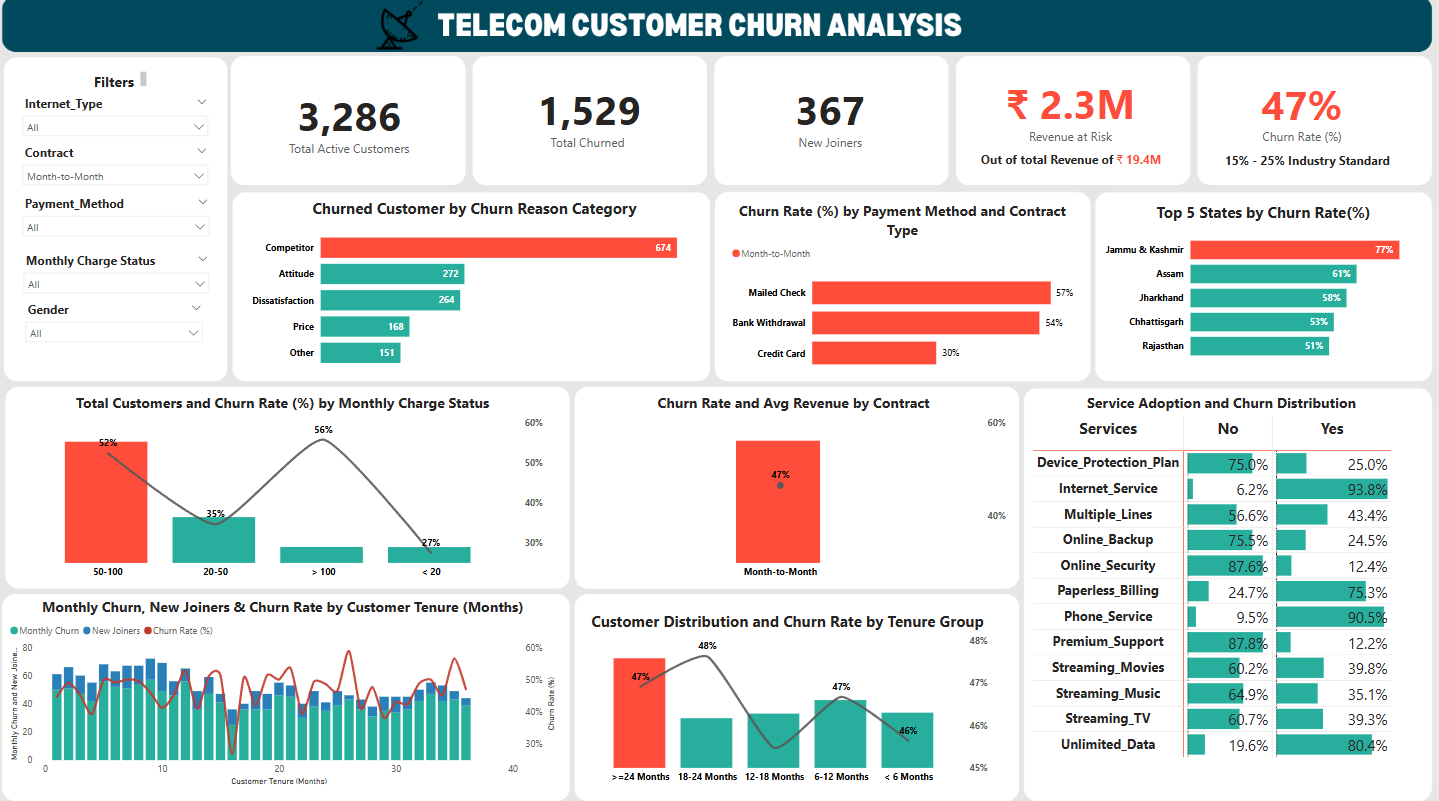

This screenshot's page, from the dashboard's own definition file:
{"tool":"powerbi","page":{"name":"Page 1","canvas":[1920,1080],"ordinal":5},"visuals":[{"type":"card","fields":{"Values":["tbl_Measures.Total Customers"]},"box":[2,0,172,119],"z":0},{"type":"card","fields":{"Values":["tbl_Measures.Total Churned Customers"]},"box":[165,0,182,129],"z":1000},{"type":"card","fields":{"Values":["tbl_Measures.Churn Rate (%)"]},"box":[692,0,161,151],"z":2000},{"type":"card","fields":{"Values":["tbl_Measures.Revenue at Risk"]},"box":[473,0,219,138],"z":3000},{"type":"card","fields":{"Values":["tbl_Measures.New Joiners"]},"box":[334,5,139,119],"z":4000},{"type":"lineStackedColumnComboChart","fields":{"Category":["prod_Churn.Contract"],"Y":["tbl_Measures.Avg Revenue per Customer"],"Y2":["tbl_Measures.Churn Rate (%)"]},"box":[0,137.9,291,240.9],"z":5000},{"type":"lineStackedColumnComboChart","fields":{"Category":["prod_Churn.Churn_Category"],"Series":["prod_Churn.Customer_Status"],"Y":["CountNonNull(prod_Churn.Customer_Status)"]},"box":[627.8,150.4,360.9,256.1],"z":6000},{"type":"lineStackedColumnComboChart","fields":{"Category":["Mapping_TenureGrp.Tenure Group"],"Y":["tbl_Measures.Total Customers"],"Y2":["tbl_Measures.Churn Rate (%)"]},"box":[312,163,305,216],"z":7000},{"type":"clusteredBarChart","fields":{"Category":["prod_Churn.Payment_Method"],"Y":["tbl_Measures.Churn Rate (%)"],"Series":["prod_Churn.Contract"]},"box":[2,448,245,240],"z":8000},{"type":"lineStackedColumnComboChart","fields":{"Category":["prod_Churn.Monthly Charge Status"],"Y2":["tbl_Measures.Churn Rate (%)"],"Y":["tbl_Measures.Total Customers"]},"box":[256,448,392,240],"z":9000},{"type":"filledMap","fields":{"Category":["prod_Churn.State"]},"box":[1105,515,175,205],"z":10000},{"type":"lineChart","fields":{"Y":["tbl_Measures.Monthly Churn","tbl_Measures.New Joiners"],"Category":["Mapping_TenureGrp.Tenure_in_Months"],"Y2":["tbl_Measures.Churn Rate (%)"]},"box":[660,448,481,205],"z":11000},{"type":"pivotTable","fields":{"Rows":["prod_services.Services"],"Columns":["prod_services.Status"],"Values":["Sum(prod_services.Churned status)"]},"box":[997,243,268,271],"z":12000},{"type":"slicer","fields":{"Values":["prod_services.Internet_Type"]},"box":[1012,5,268,69],"z":13000},{"type":"slicer","fields":{"Values":["prod_Churn.Contract"]},"box":[1007,69,268,69],"z":14000},{"type":"slicer","fields":{"Values":["prod_Churn.Payment_Method"]},"box":[1007,138,268,69],"z":15000},{"type":"slicer","fields":{"Values":["prod_Churn.Monthly Charge Status"]},"box":[1012,202,268,69],"z":16000}]}

Visuals, with their boxes in screenshot pixels (x1, y1, x2, y2), scaled from the page's 1920x1080 canvas onto the 1439x801 screenshot:
card - tbl_Measures.Total Customers: 1,0,130,88
card - tbl_Measures.Total Churned Customers: 124,0,260,96
card - tbl_Measures.Churn Rate (%): 519,0,639,112
card - tbl_Measures.Revenue at Risk: 355,0,519,102
card - tbl_Measures.New Joiners: 250,4,355,92
lineStackedColumnComboChart - prod_Churn.Contract x tbl_Measures.Avg Revenue per Customer: 0,102,218,281
lineStackedColumnComboChart - prod_Churn.Churn_Category x prod_Churn.Customer_Status: 471,112,741,301
lineStackedColumnComboChart - Mapping_TenureGrp.Tenure Group x tbl_Measures.Total Customers: 234,121,462,281
clusteredBarChart - prod_Churn.Payment_Method x tbl_Measures.Churn Rate (%): 1,332,185,510
lineStackedColumnComboChart - prod_Churn.Monthly Charge Status x tbl_Measures.Churn Rate (%): 192,332,486,510
filledMap - prod_Churn.State: 828,382,959,534
lineChart - tbl_Measures.Monthly Churn x tbl_Measures.New Joiners: 495,332,855,484
pivotTable - prod_services.Services x prod_services.Status: 747,180,948,381
slicer - prod_services.Internet_Type: 758,4,959,55
slicer - prod_Churn.Contract: 755,51,956,102
slicer - prod_Churn.Payment_Method: 755,102,956,154
slicer - prod_Churn.Monthly Charge Status: 758,150,959,201
